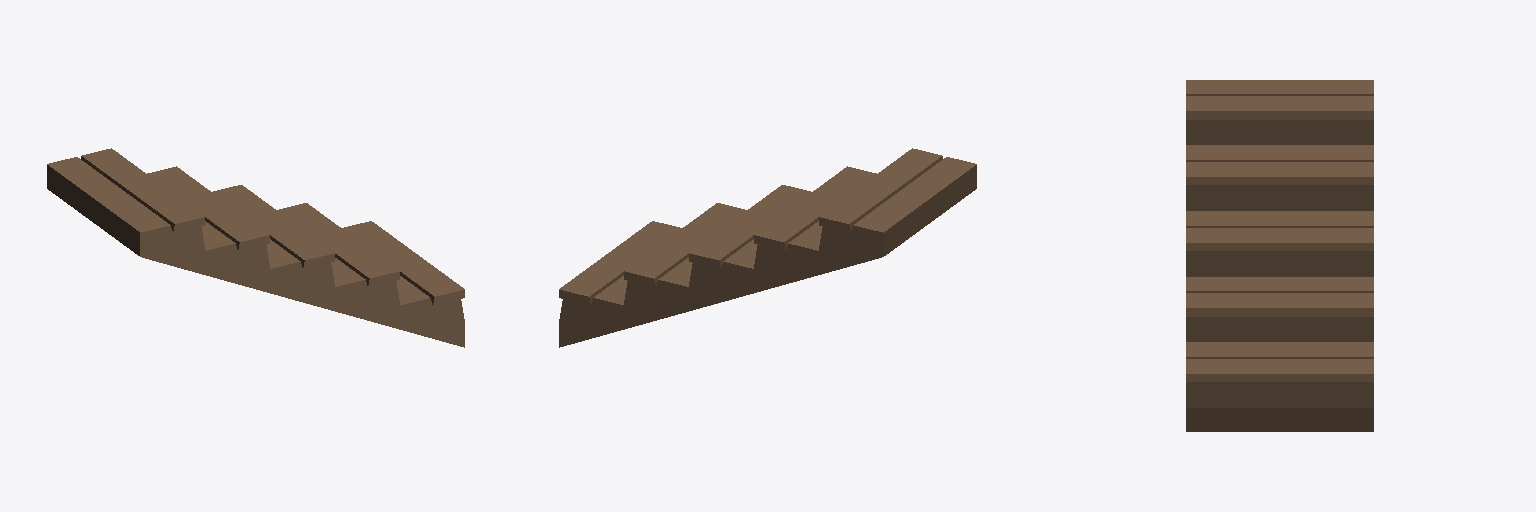
The model's file is Wood_Steps.obj.
The picture shows the model from 3 angles: view 1: azimuth 30°, elevation 25°; view 2: azimuth 150°, elevation 25°; view 3: azimuth 270°, elevation 25°; orthographic projection.
Parts seen in each view (by area): view 1: object1; view 2: object1; view 3: object1.
Part boxes in pixels (x1,y1,x2,y2): object1: (47, 148, 464, 347); object1: (559, 148, 976, 347); object1: (1186, 80, 1373, 431).
Size of the model in its own units: 2 by 1.14 by 1.